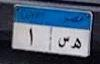1: (27, 27, 34, 44)
haa: (70, 37, 82, 51)
seen: (57, 35, 70, 48)
